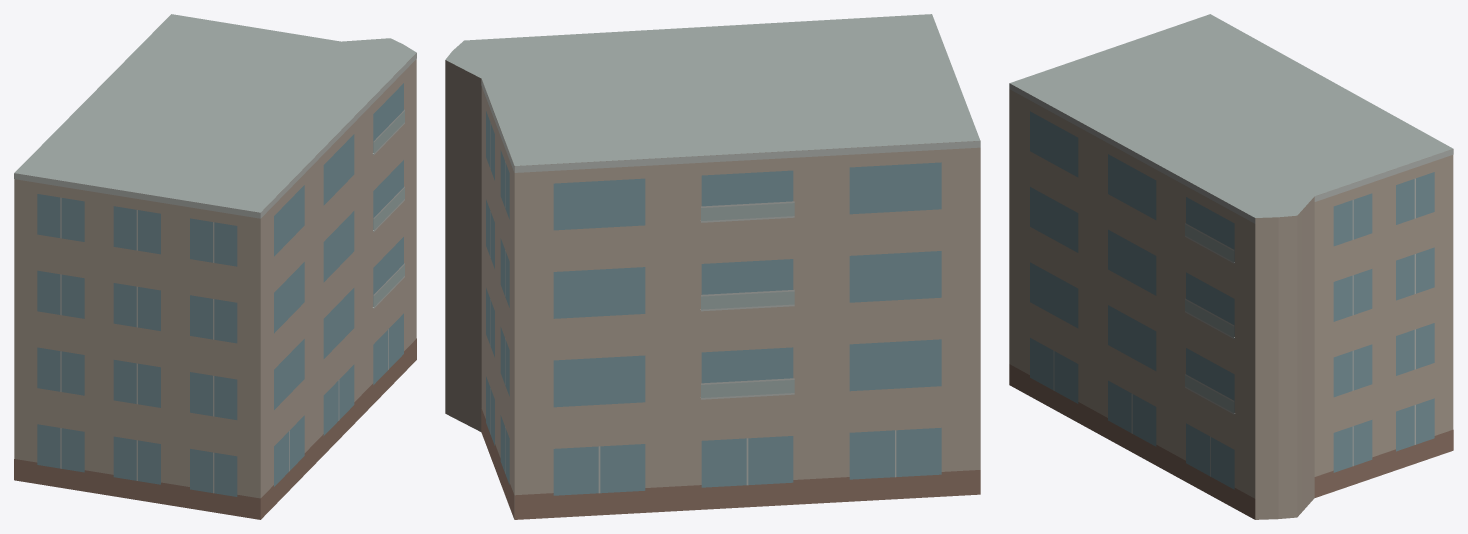
Rendered from survey-upis-32777102.glb.
3 renders of one model, left to right at view 1: azimuth 30°, elevation 25°; view 2: azimuth 150°, elevation 25°; view 3: azimuth 270°, elevation 25°, orthographic. The views are drawn at different scales.
Parts seen in each view (by area): view 1: survey-upis-32777102.tmp; view 2: survey-upis-32777102.tmp; view 3: survey-upis-32777102.tmp.
Boxes of the visible parts, x1,y1,x2,y2 form: survey-upis-32777102.tmp: (14,14,416,519); survey-upis-32777102.tmp: (445,14,980,519); survey-upis-32777102.tmp: (1009,14,1453,519).
Bounding box in the file's own units: 18.13 × 12.5 × 16.67.
